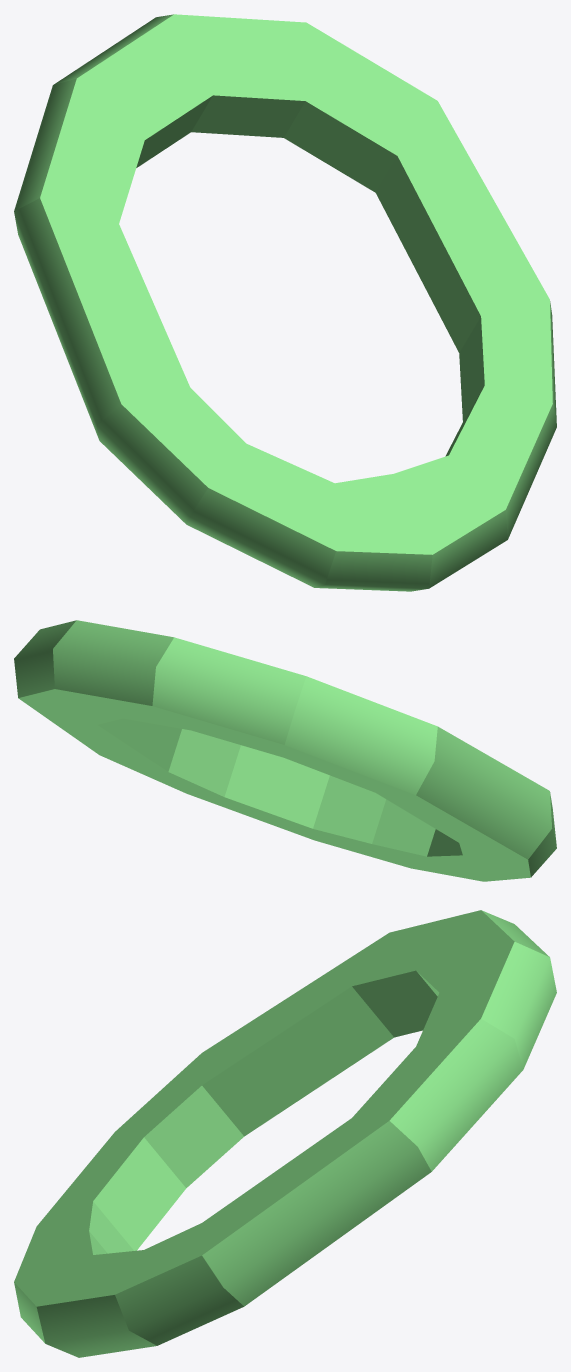
File: Tiffany_Collar_temp.fbx
3 views of the same model, one above another, from view 1: azimuth 30°, elevation 25°; view 2: azimuth 150°, elevation 25°; view 3: azimuth 270°, elevation 25° (orthographic). The views are drawn at different scales.
Visible parts, largest first — view 1: collar_placeholder; view 2: collar_placeholder; view 3: collar_placeholder.
Boxes of the visible parts, x1=… form: collar_placeholder: x1=14, y1=14, x2=556, y2=591; collar_placeholder: x1=14, y1=620, x2=556, y2=881; collar_placeholder: x1=14, y1=910, x2=556, y2=1357.
Size of the model in its own units: 70.29 by 59.68 by 75.
